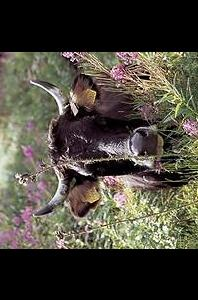cow: (22, 64, 198, 217)
